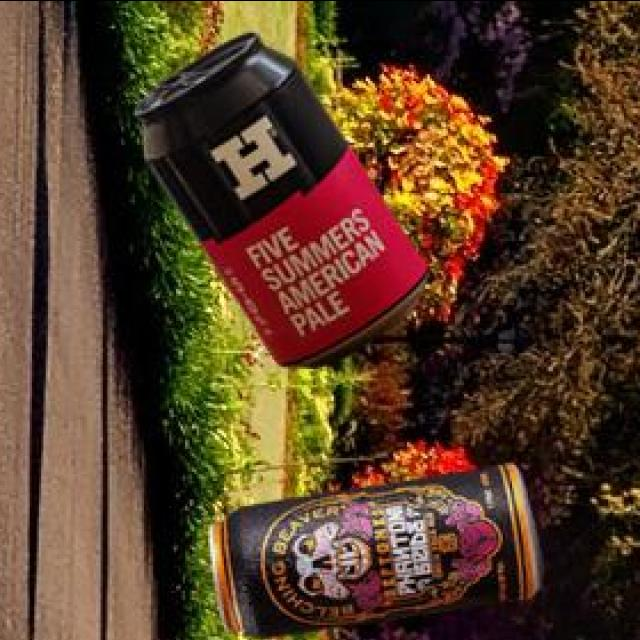logam: (138, 29, 431, 365), (214, 461, 547, 634)
